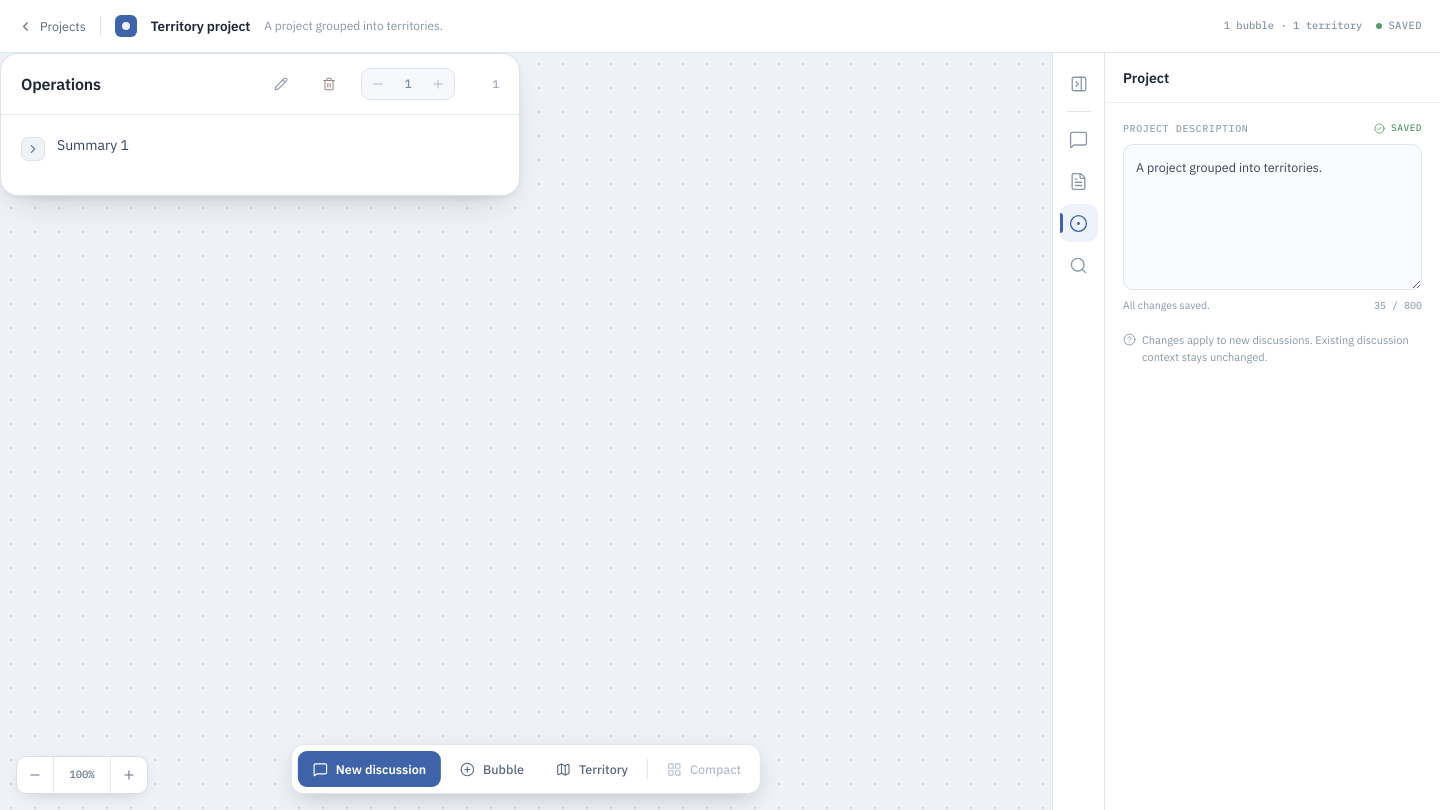
Test: ProjectWorkspace territory save status › renames a manual territory from its card and surfaces the in-flight save
Step 1. Click the button named "Rename Operations" → (281, 84), box left=265, top=68, right=297, bottom=100
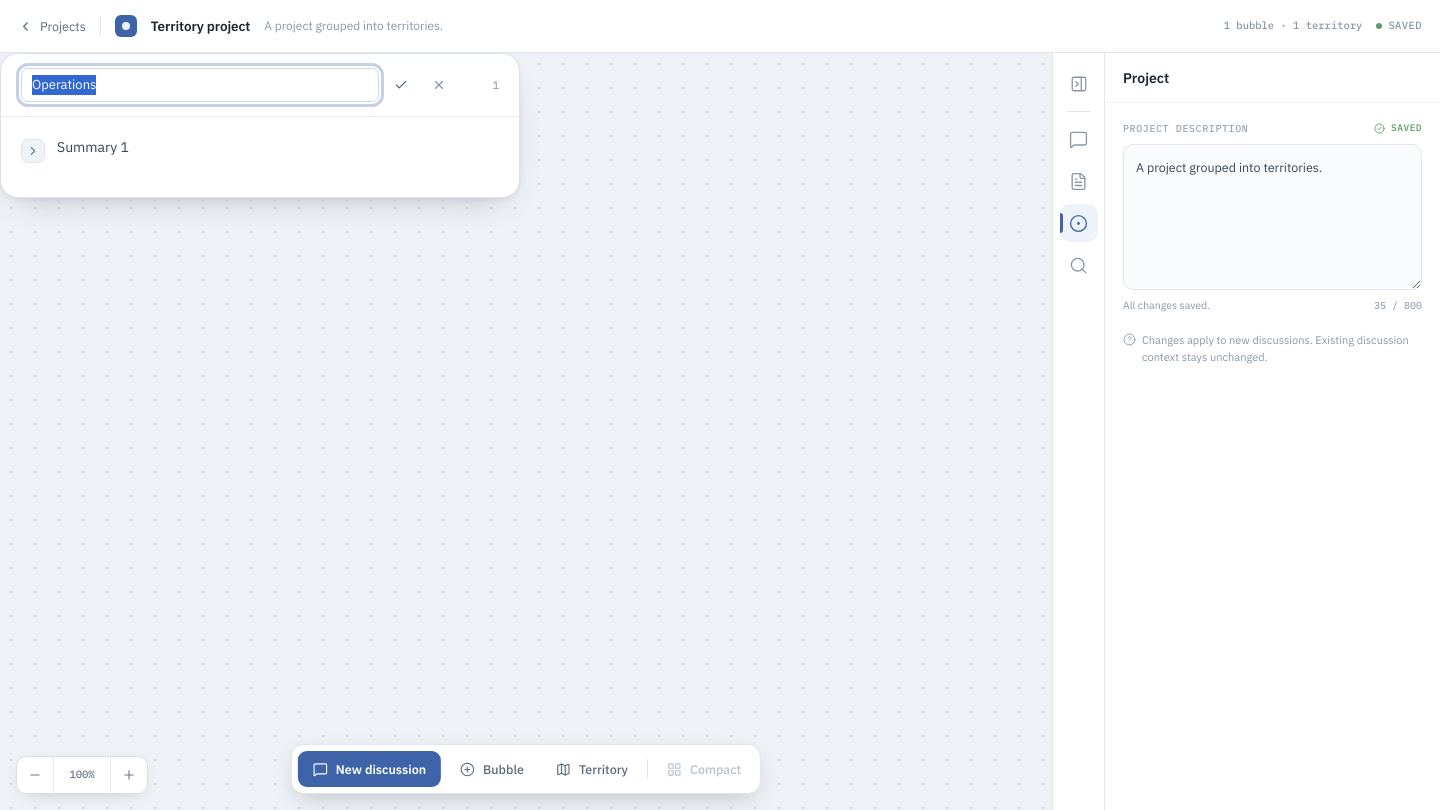
Step 2. Replace the text in the field named "Territory title" with "  Customer research  " → (200, 85), box left=21, top=68, right=379, bottom=102
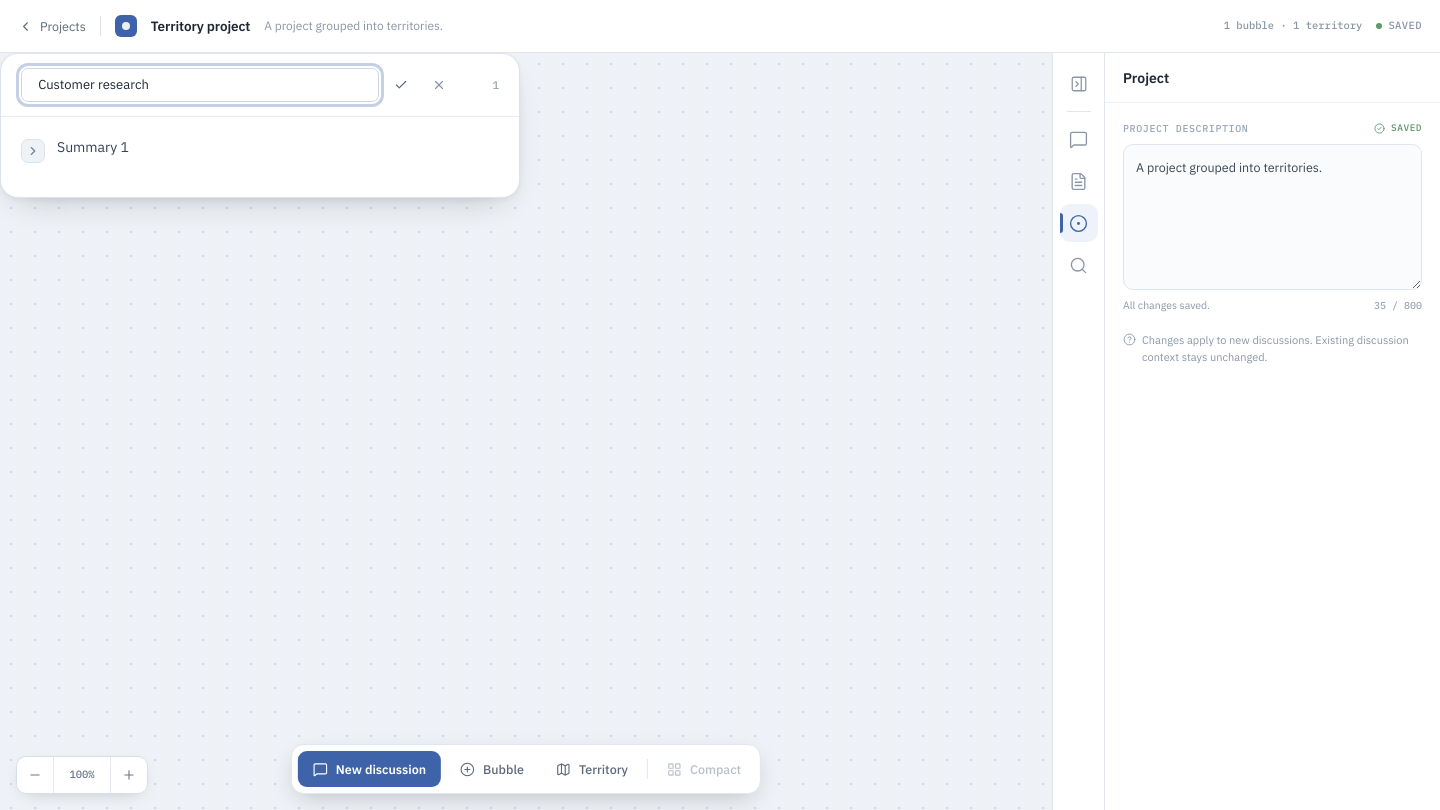
Step 3. Click the button named "Save territory title for Operations" → (401, 85), box left=385, top=69, right=417, bottom=101
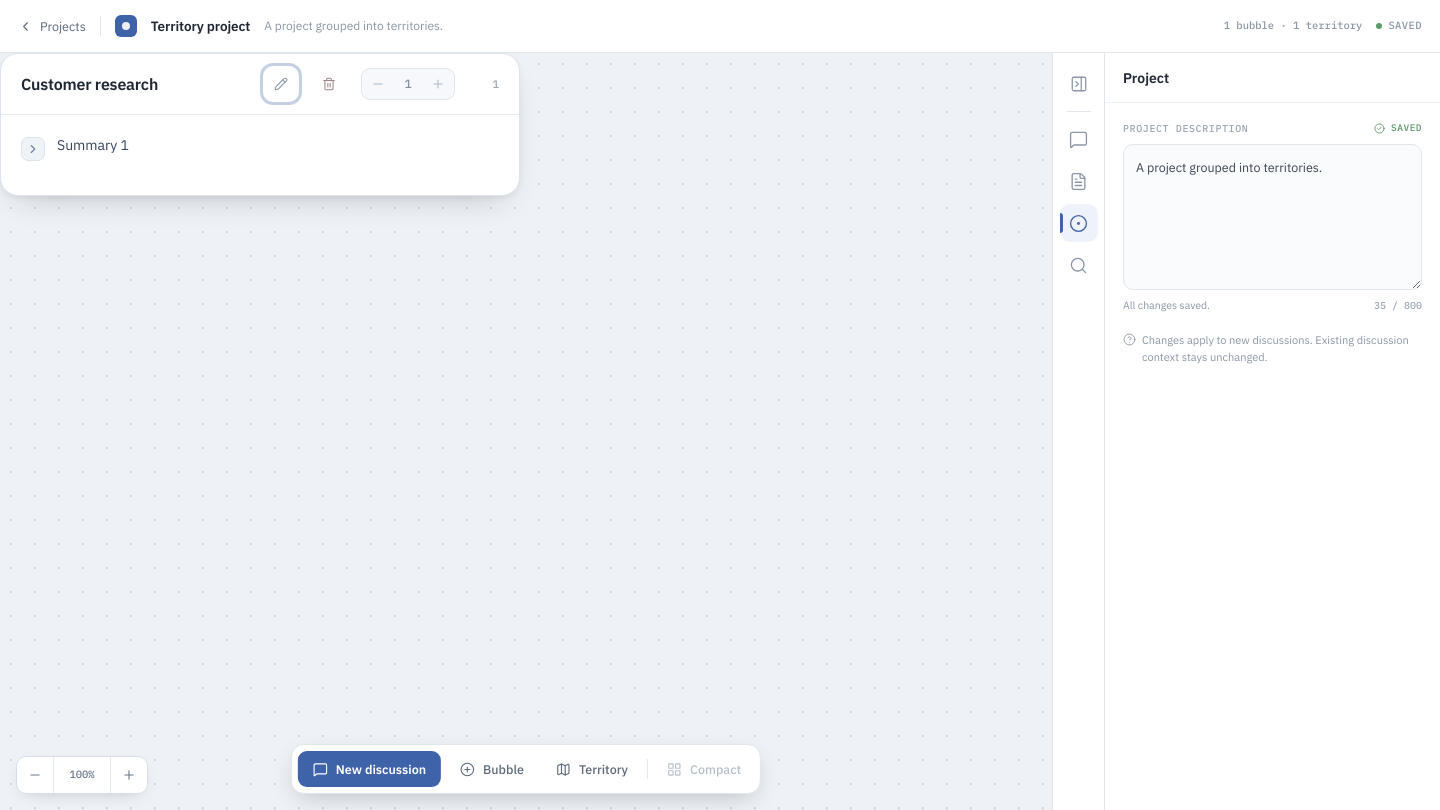
Expected: the text "SAVING" in the row of "A project grouped into territories." is shown, left=1376, top=18, right=1422, bottom=34
Expected: the heading "Customer research" is shown, left=21, top=74, right=158, bottom=94
